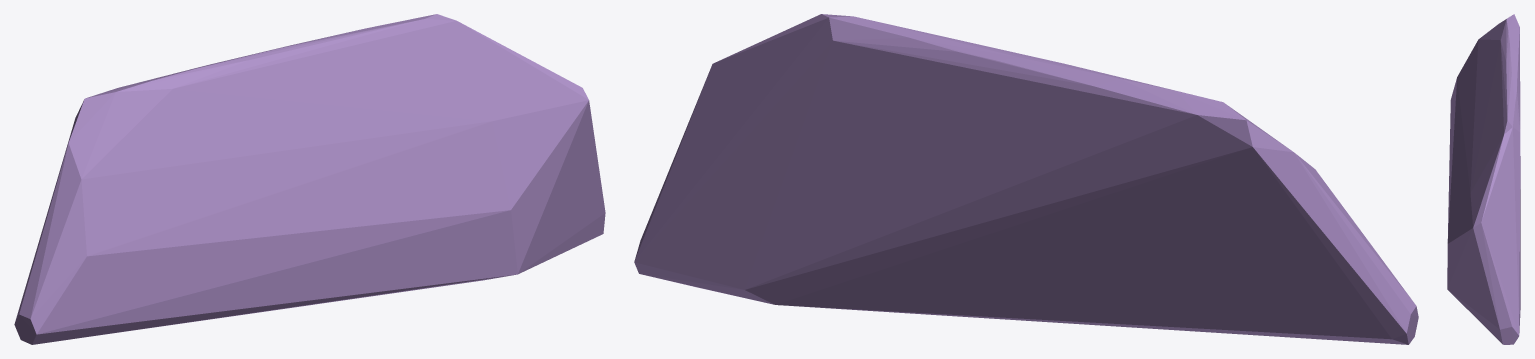
File: consumable_hose_shaped_a01.glb
3 renders of one model, left to right at view 1: azimuth 30°, elevation 25°; view 2: azimuth 150°, elevation 25°; view 3: azimuth 270°, elevation 25°, orthographic. The views are drawn at different scales.
Visible parts, largest first — view 1: geometry_0; view 2: geometry_0; view 3: geometry_0.
Part boxes in pixels (x1=…): geometry_0: x1=14, y1=14, x2=605, y2=344; geometry_0: x1=634, y1=14, x2=1418, y2=344; geometry_0: x1=1447, y1=14, x2=1520, y2=344.
Bounding box in the file's own units: 0.4797 × 0.1955 × 0.0756.
